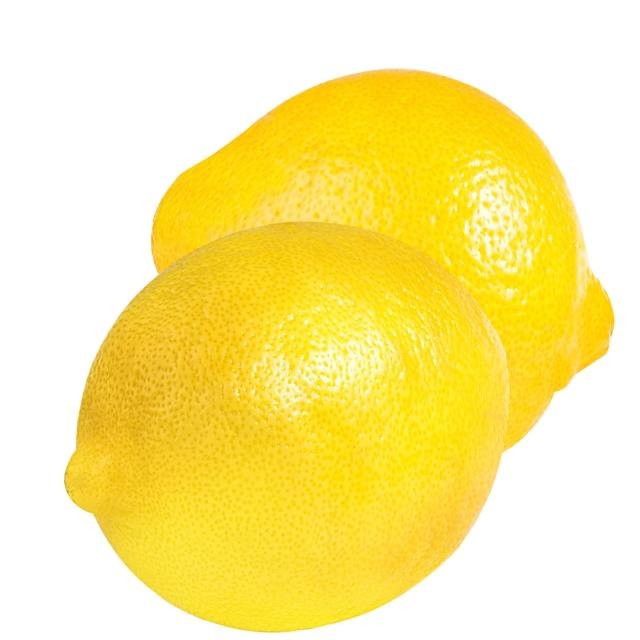lemon: (61, 217, 512, 638)
